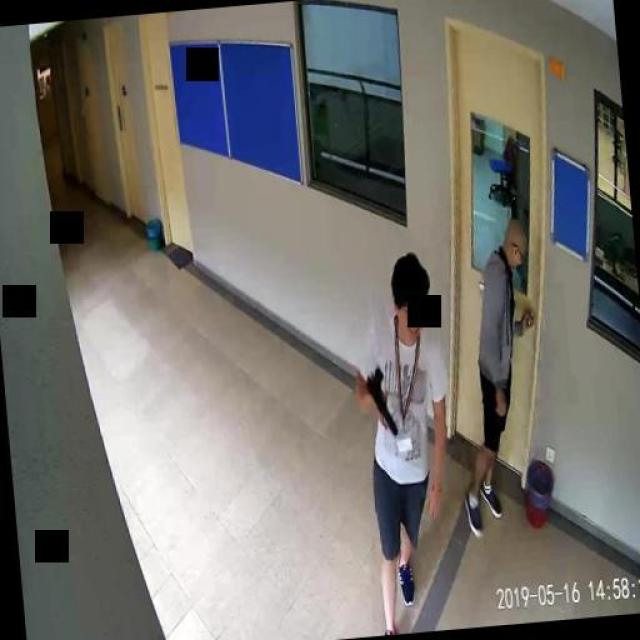gun: (362, 360, 398, 436)
